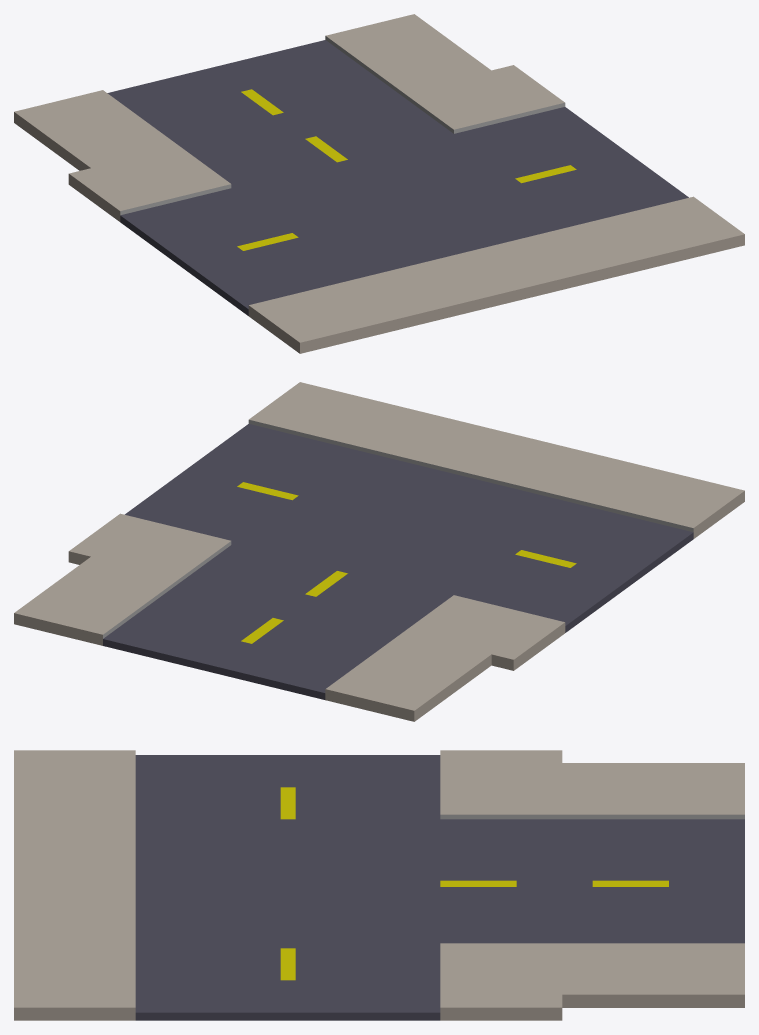
File: T_Intersection.fbx
3 views of the same model, one above another, from view 1: azimuth 30°, elevation 25°; view 2: azimuth 150°, elevation 25°; view 3: azimuth 270°, elevation 25° (orthographic). The views are drawn at different scales.
Parts seen in each view (by area): view 1: T_Intersection; view 2: T_Intersection; view 3: T_Intersection.
Part boxes in pixels (bbox=[...]): T_Intersection: bbox=[14, 14, 744, 353]; T_Intersection: bbox=[14, 382, 744, 721]; T_Intersection: bbox=[14, 750, 744, 1020].
Bounding box in the file's own units: 20 × 0.4785 × 24.
